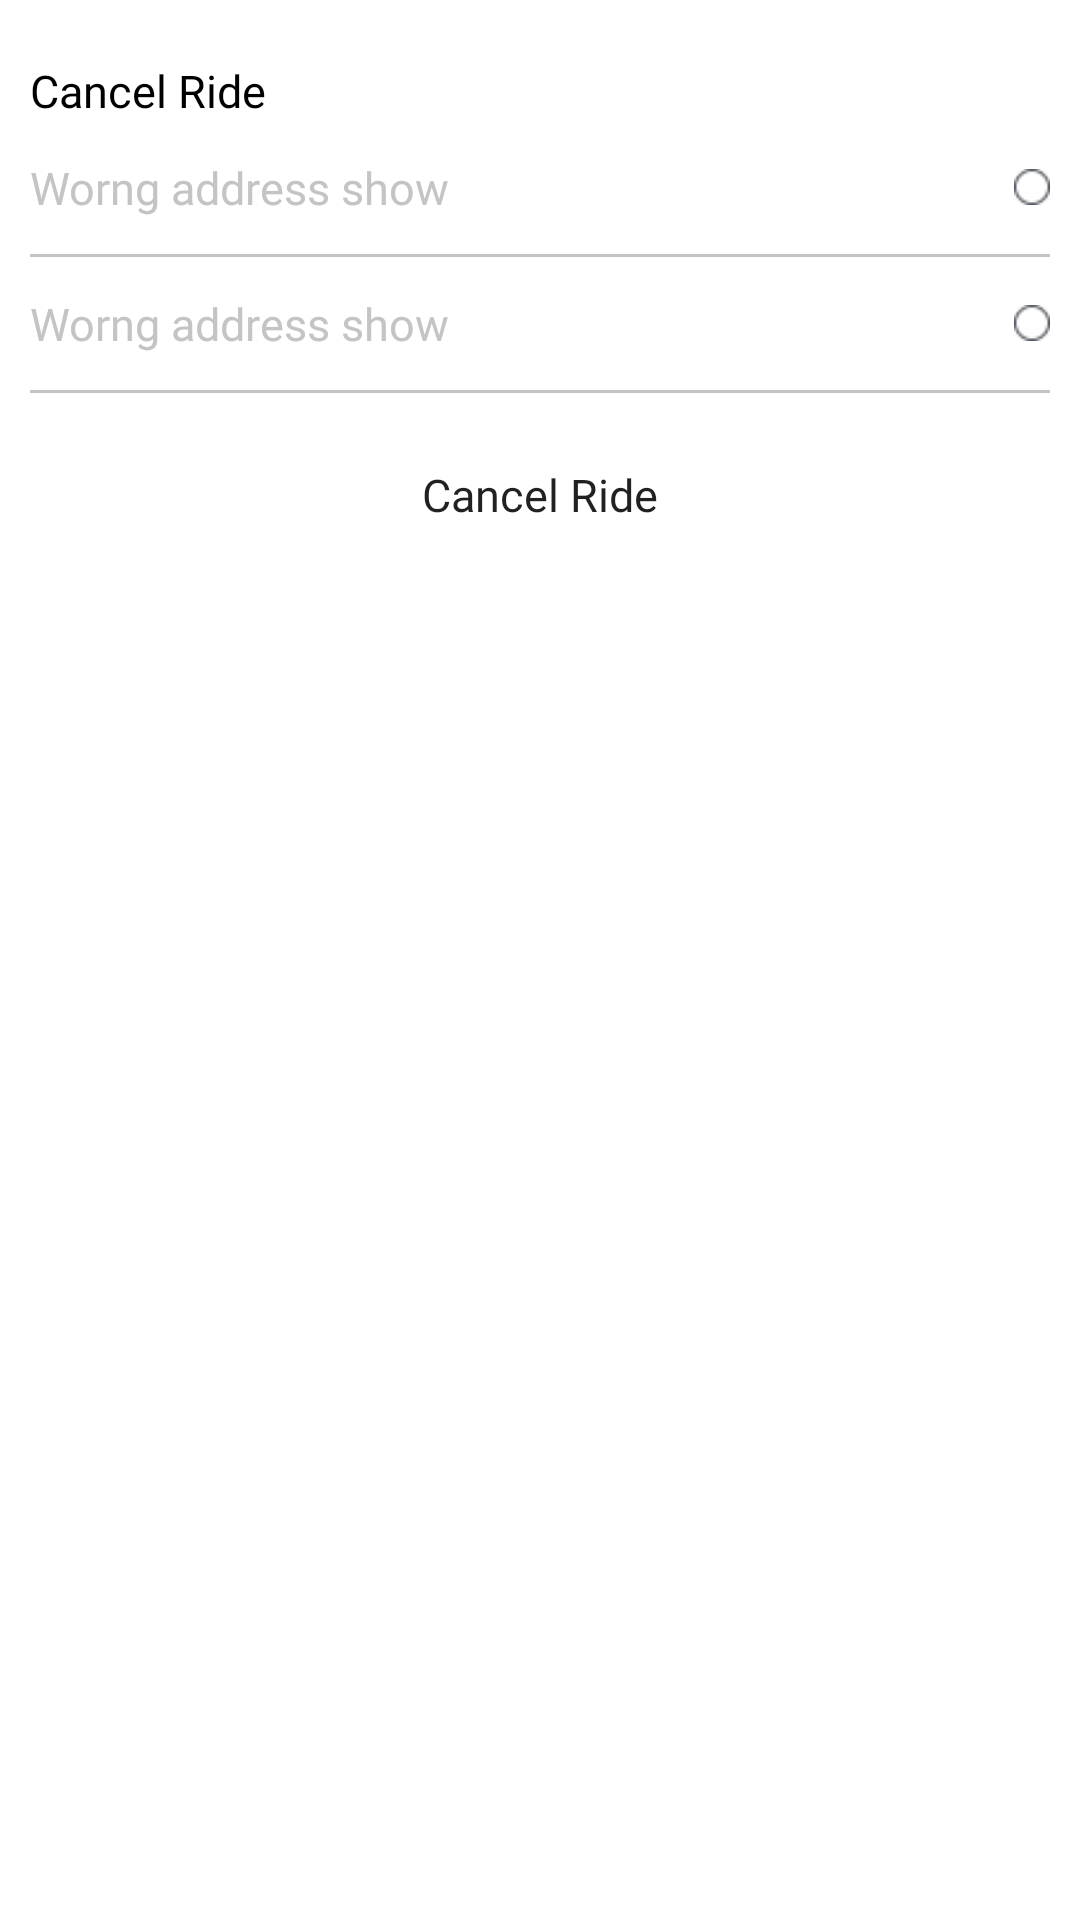

Where icons sit on this 1080px x 1920px app screen, as (x1, y1, x2, y2):
circleoption: (1014, 169, 1050, 205), (1014, 305, 1050, 341)
